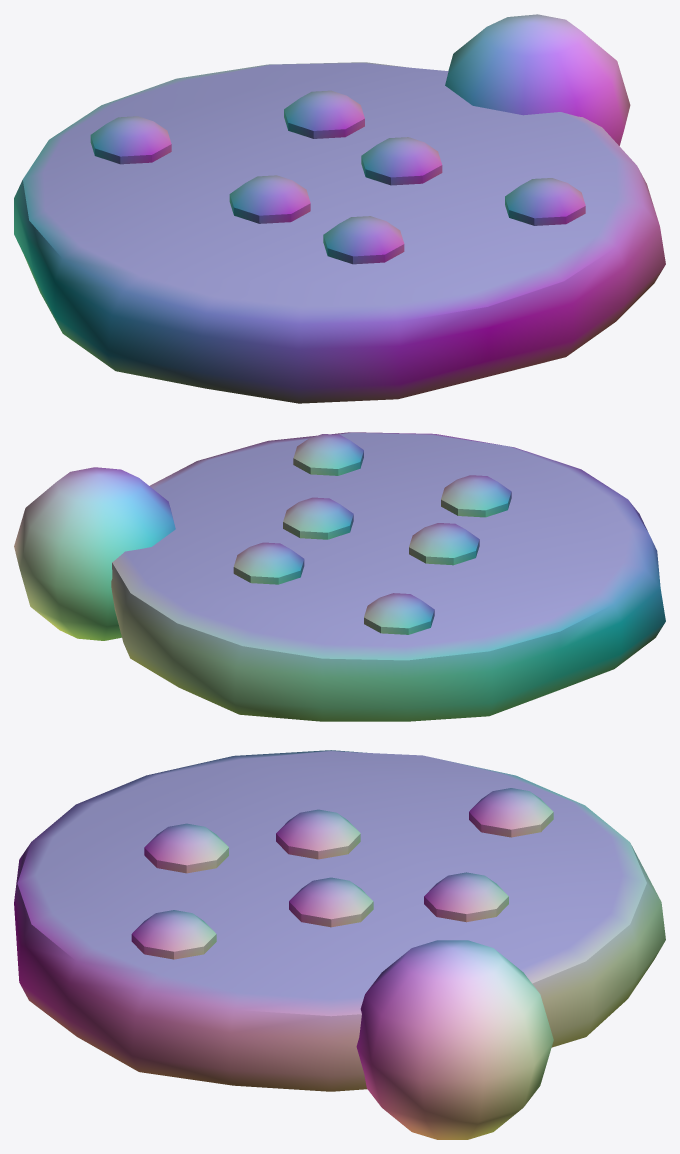
The model's file is env_deco_cookie.glb.
3 renders of one model, top to bottom at view 1: azimuth 30°, elevation 25°; view 2: azimuth 150°, elevation 25°; view 3: azimuth 270°, elevation 25°, orthographic. The views are drawn at different scales.
Parts seen in each view (by area): view 1: env_deco_cookie_mesh; view 2: env_deco_cookie_mesh; view 3: env_deco_cookie_mesh.
Boxes of the visible parts, x1,y1,x2,y2 form: env_deco_cookie_mesh: (14, 14, 665, 403); env_deco_cookie_mesh: (14, 432, 665, 721); env_deco_cookie_mesh: (14, 750, 665, 1139).
Bounding box in the file's own units: 0.3576 × 0.1 × 0.3222.
